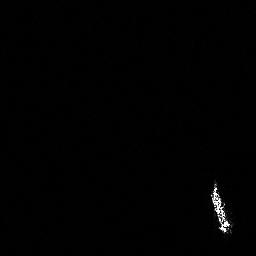ship: (206, 178, 236, 238)
